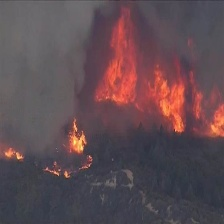fire: (101, 18, 141, 109), (148, 65, 190, 133), (194, 78, 224, 137), (39, 156, 75, 179), (66, 119, 86, 154), (3, 142, 28, 166), (75, 153, 94, 178)
smoke: (1, 1, 92, 128)
